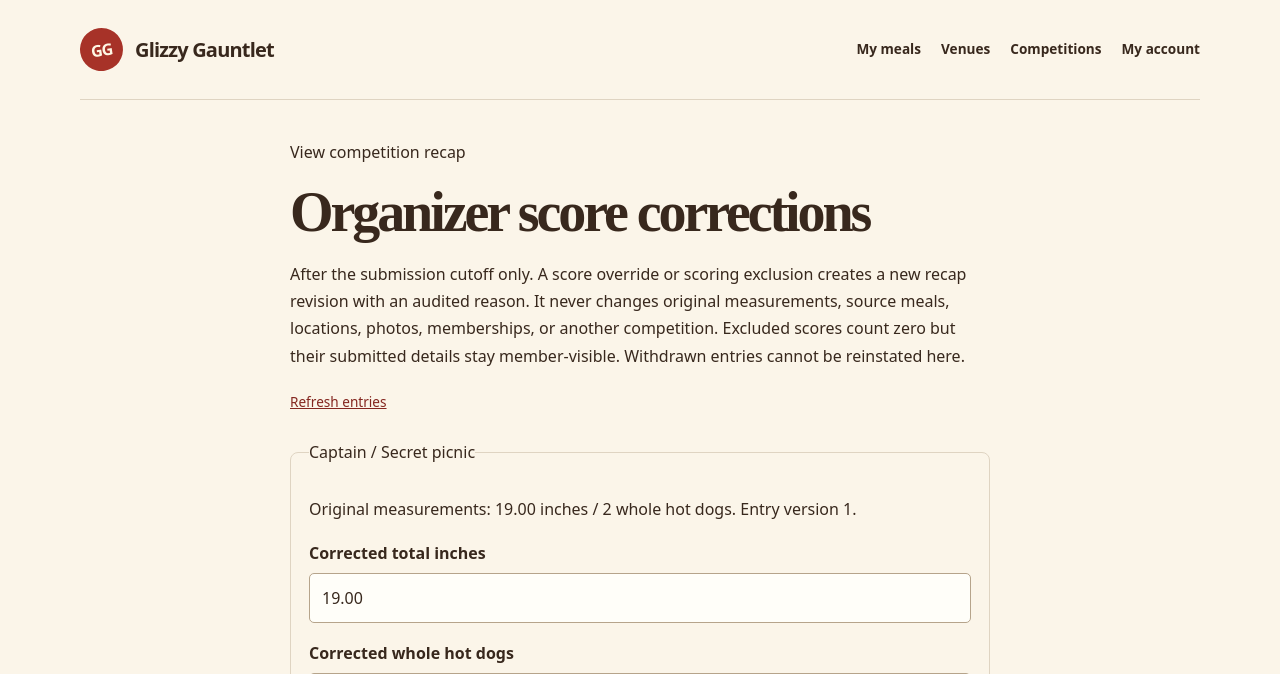
Test: versioned recaps and score corrections › rejects zero retained scores locally without sending a correction
Replace the text in the field labelled "Corrected total inches" with "0": [640, 598] box [309,573,971,623]
(page scrolled)
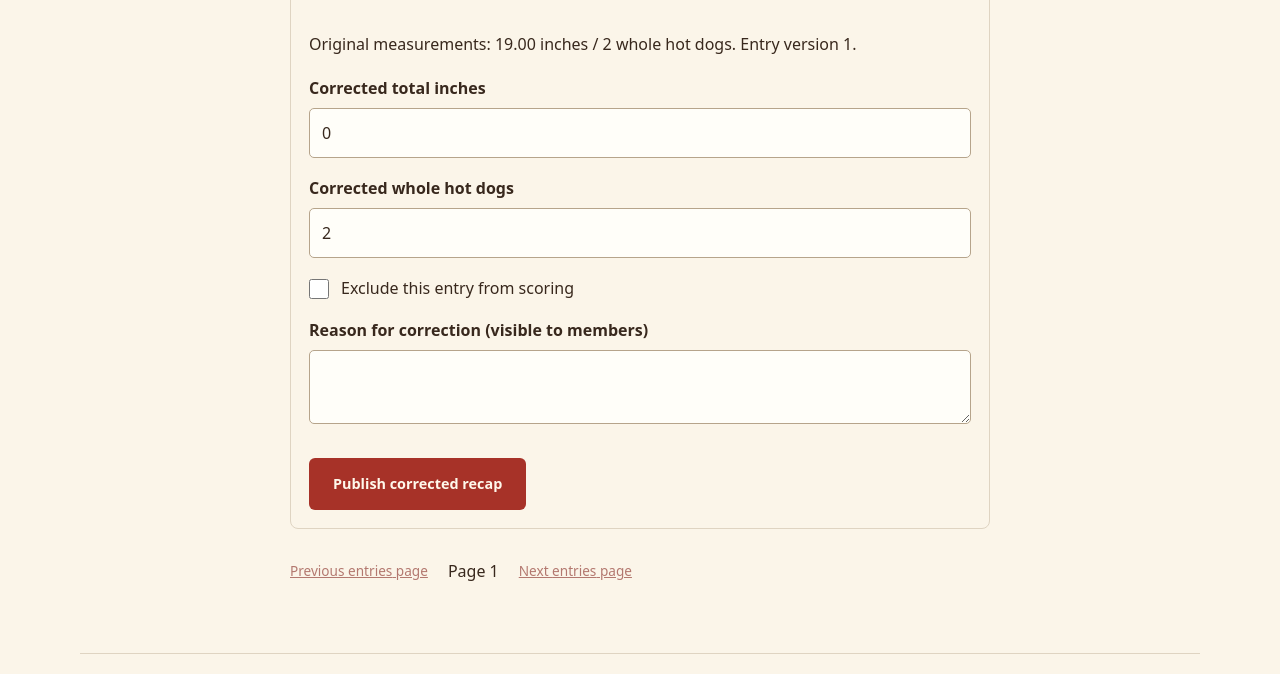
In the text box labelled "Reason for correction (visible to members)": [640, 387] box [309,350,971,424], type "Reason"
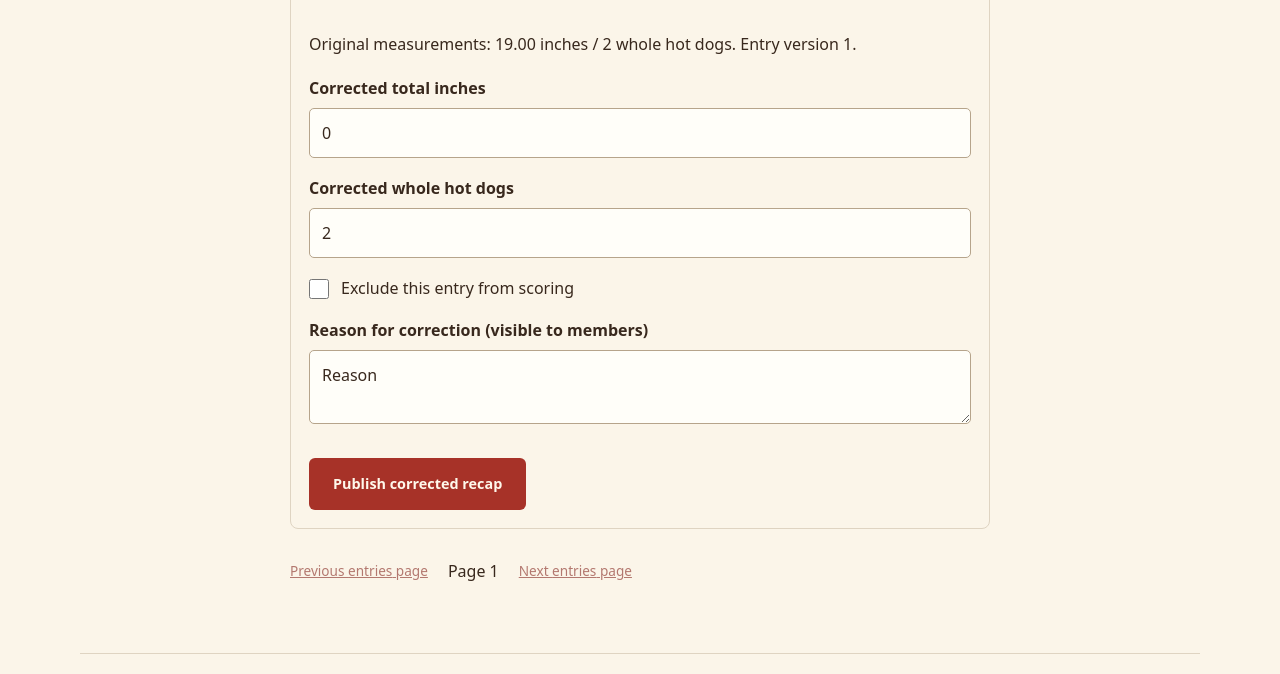
Click the button "Publish corrected recap": [418, 484] box [309,458,526,510]
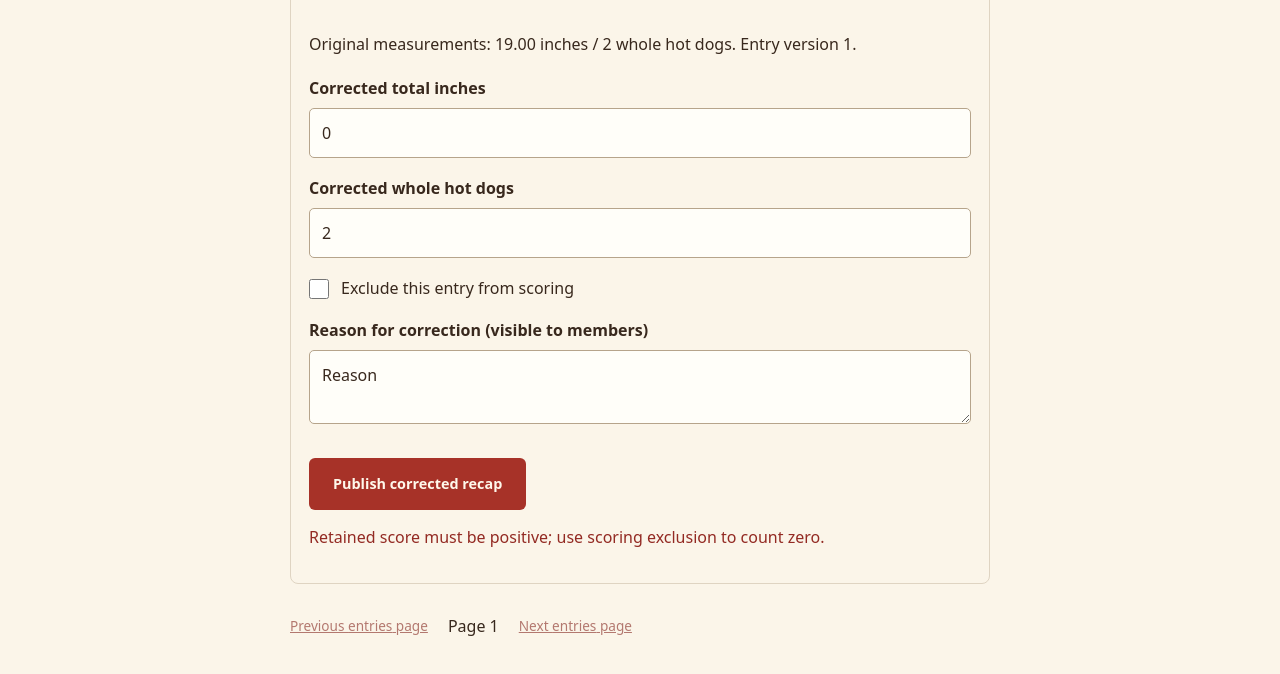
Result: the message shows "use scoring exclusion" at [309,526,824,548]
